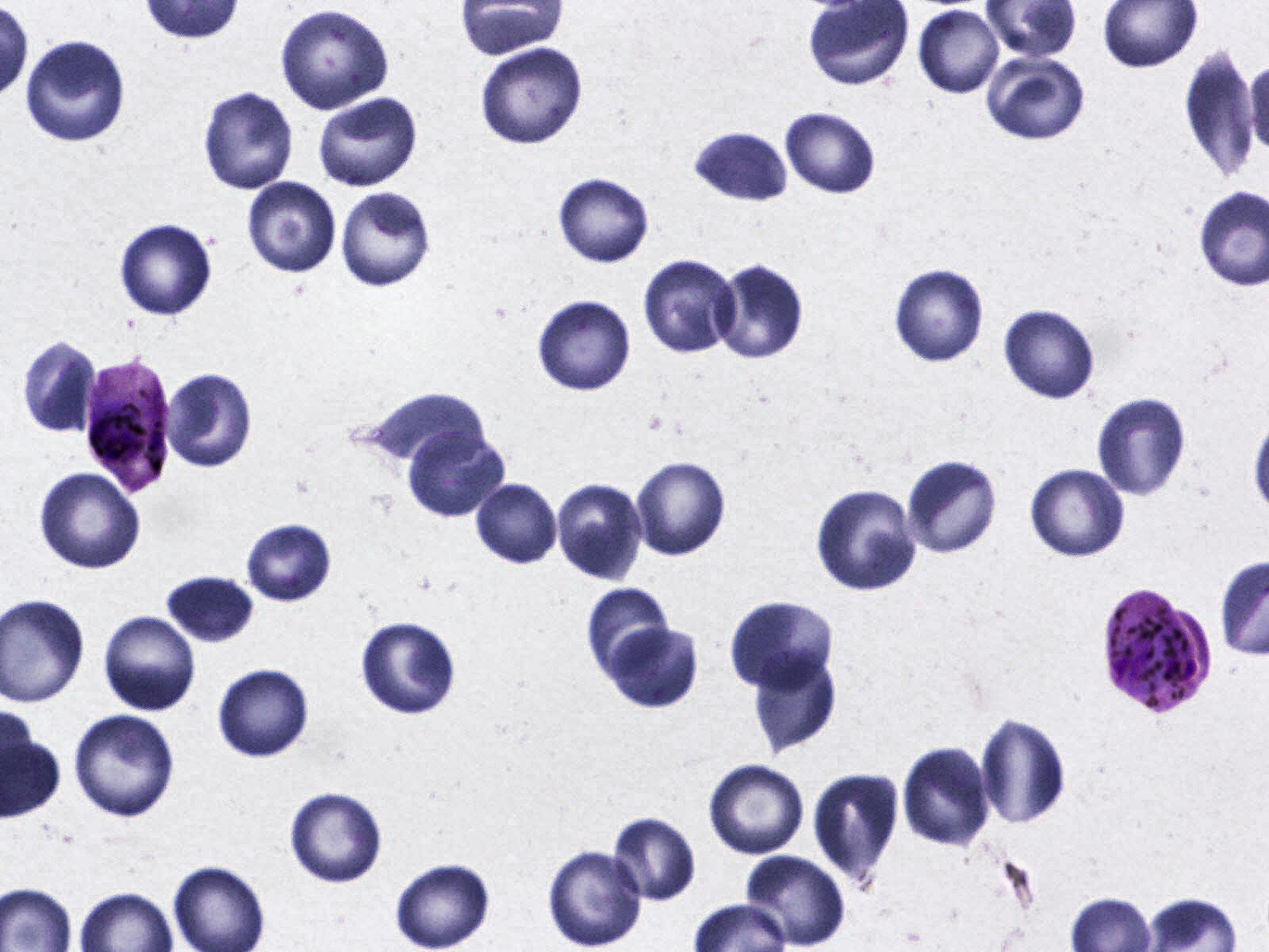Infected: (1103, 590, 1212, 713), (86, 359, 166, 497)
Uninfected: (635, 251, 742, 359), (33, 469, 145, 571), (283, 5, 386, 112), (74, 711, 174, 820), (28, 36, 128, 144), (313, 93, 424, 190), (335, 184, 434, 290), (480, 48, 588, 143), (531, 297, 639, 392), (105, 607, 199, 716), (1180, 48, 1257, 178), (633, 459, 730, 560), (551, 844, 646, 947), (815, 492, 915, 589), (745, 853, 849, 946), (204, 87, 293, 194), (115, 221, 214, 317), (709, 261, 804, 361), (286, 789, 386, 884), (1028, 464, 1129, 558), (556, 171, 655, 266), (892, 266, 987, 363), (361, 617, 453, 717), (978, 719, 1063, 827), (903, 743, 991, 846), (1003, 305, 1098, 400), (550, 482, 646, 576), (905, 457, 999, 553), (752, 644, 835, 751), (781, 106, 876, 199), (711, 760, 807, 852), (371, 396, 484, 474), (1098, 397, 1187, 496), (815, 769, 899, 873), (730, 603, 830, 689), (247, 180, 338, 274), (409, 432, 504, 522), (392, 862, 491, 948), (985, 54, 1084, 140), (167, 370, 251, 471), (588, 583, 671, 685), (218, 667, 311, 758), (607, 624, 703, 711), (916, 7, 1003, 95), (246, 519, 334, 605), (472, 480, 559, 566), (611, 816, 698, 901), (692, 129, 790, 203), (162, 574, 258, 647), (22, 344, 95, 432)
